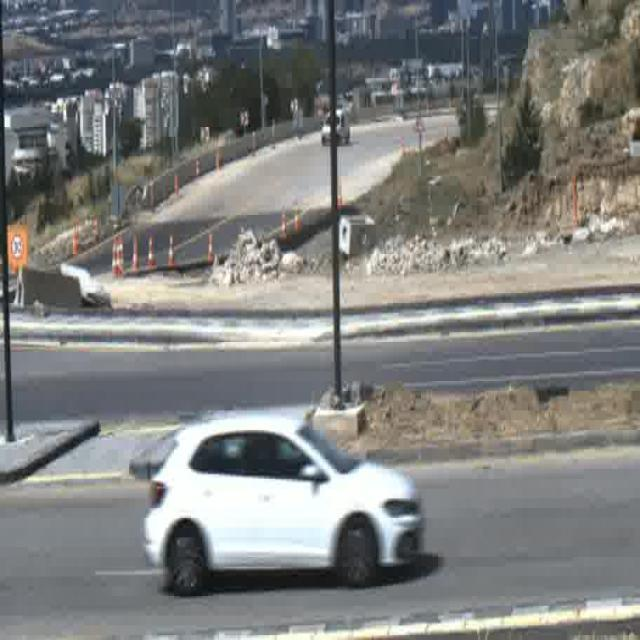Car: (144, 409, 420, 594), (322, 108, 349, 144)
